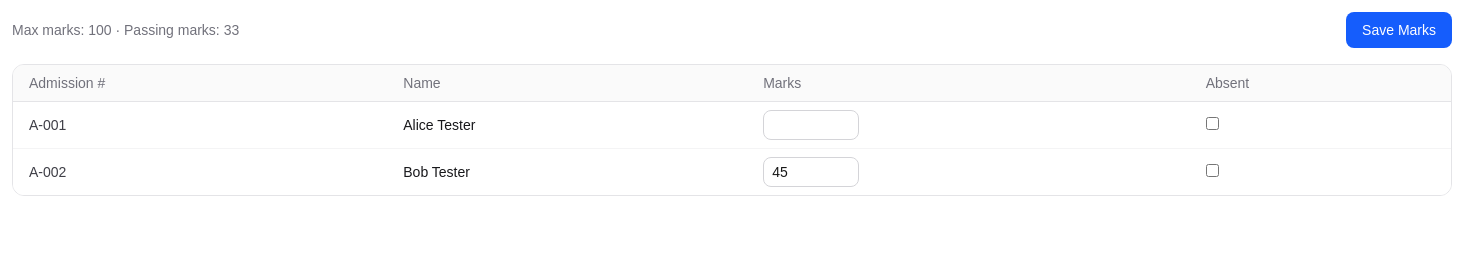
Scenario: MarksEntryGrid › shows the server error message and does not refresh on failure
The width and height of the screenshot is (1464, 267).
Step 1. Click the button "Save Marks" → coordinates (1399, 30), box [1346, 12, 1452, 48]
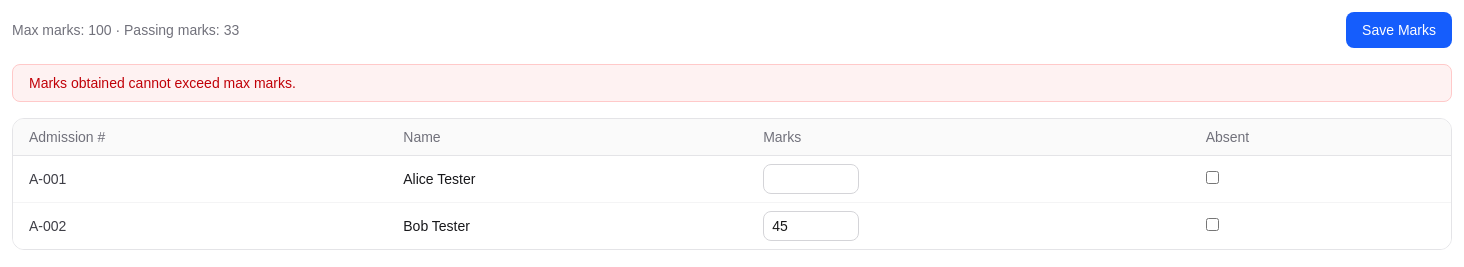
Expected: the text "Marks obtained cannot exceed max marks." is shown, [12, 64, 1452, 102]
